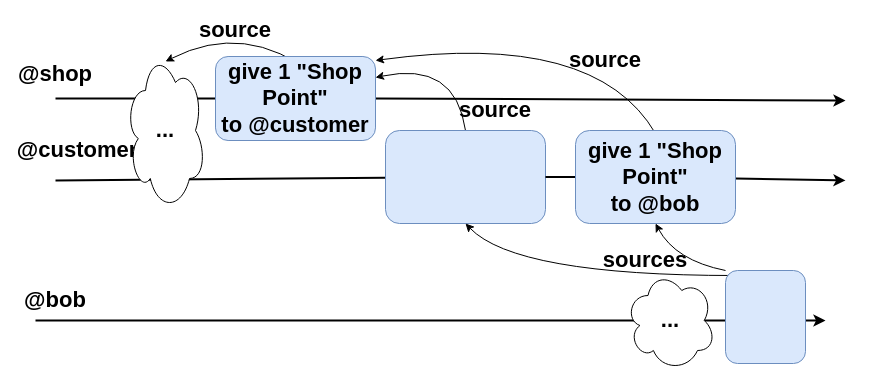
Image size: 872x388. Some labels were removed from this diagram. The centre of each missing label's shape, as x and y in pixels:
flag: [765,317]
give 1 "Shop Point" to @alice: [465,177]
